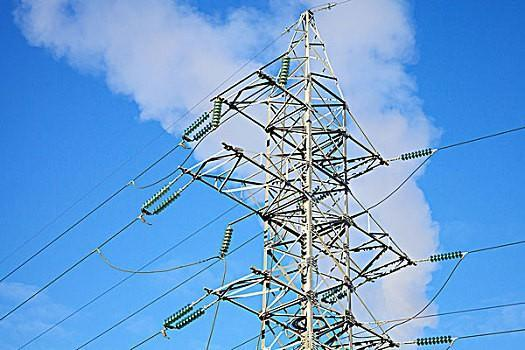power_tower: (173, 5, 464, 350)
